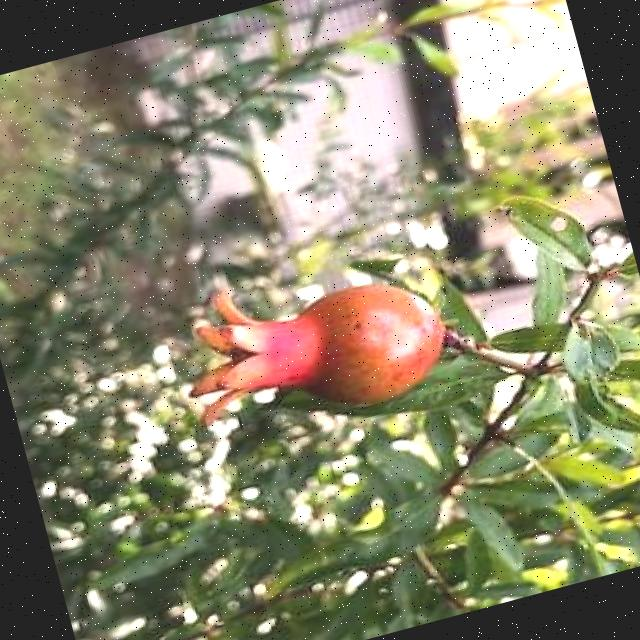Pomegranate: (162, 240, 459, 454)
